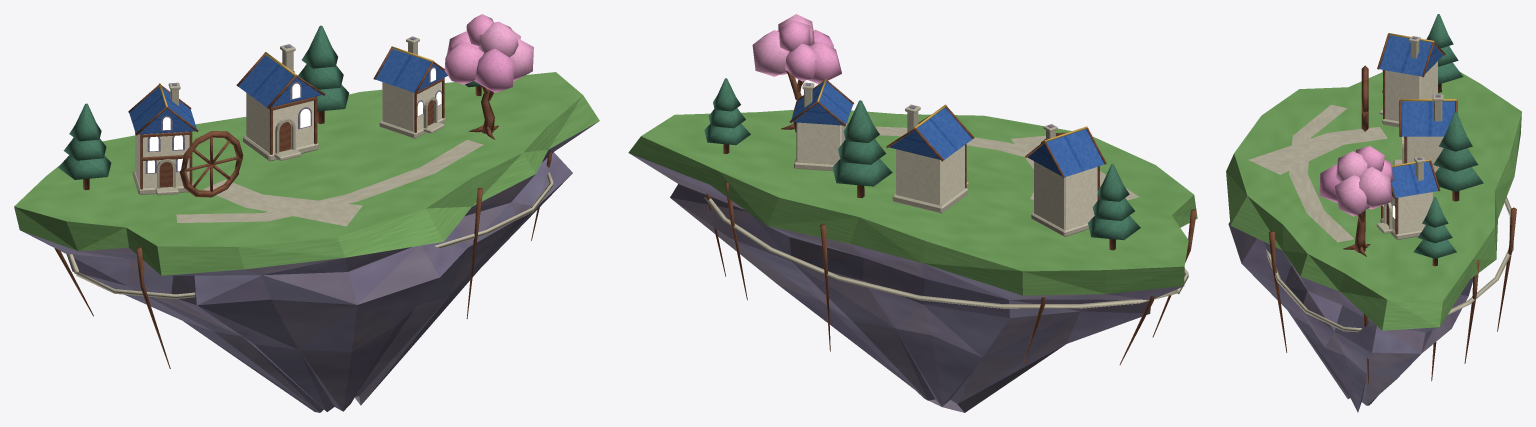
File: sky-hamlet-balanced.glb
The picture shows the model from 3 angles, left to right: view 1: azimuth 30°, elevation 25°; view 2: azimuth 150°, elevation 25°; view 3: azimuth 270°, elevation 25°; orthographic projection. The views are drawn at different scales.
Parts seen in each view (by area): view 1: sky-hamlet; view 2: sky-hamlet; view 3: sky-hamlet.
Boxes of the visible parts, bbox=[...] form: sky-hamlet: bbox=[14, 14, 599, 412]; sky-hamlet: bbox=[628, 14, 1197, 412]; sky-hamlet: bbox=[1226, 14, 1521, 412].
Size of the model in its own units: 17.17 by 10.45 by 8.65.
Materials: 10 (10 with a texture image).
